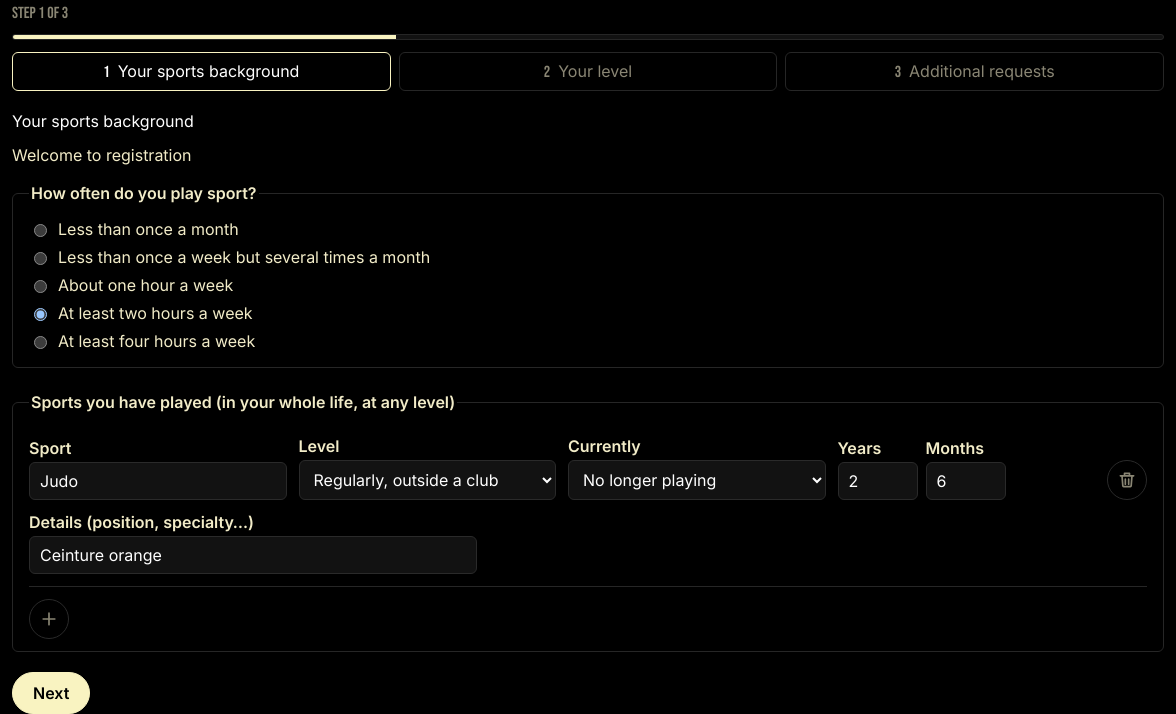
Test case: RegistrationForm › fills the saved answers and offers to withdraw
The image size is (1176, 714).
(page scrolled)
Expected: the radio button labelled "At least two hours a week" is checked, x1=34 y1=308 x2=47 y2=321
Expected: the field labelled "Sport" holds "Judo", x1=29 y1=462 x2=286 y2=500
Click the button "Next" at (51, 693), box x1=12 y1=672 x2=90 y2=713
(page scrolled)
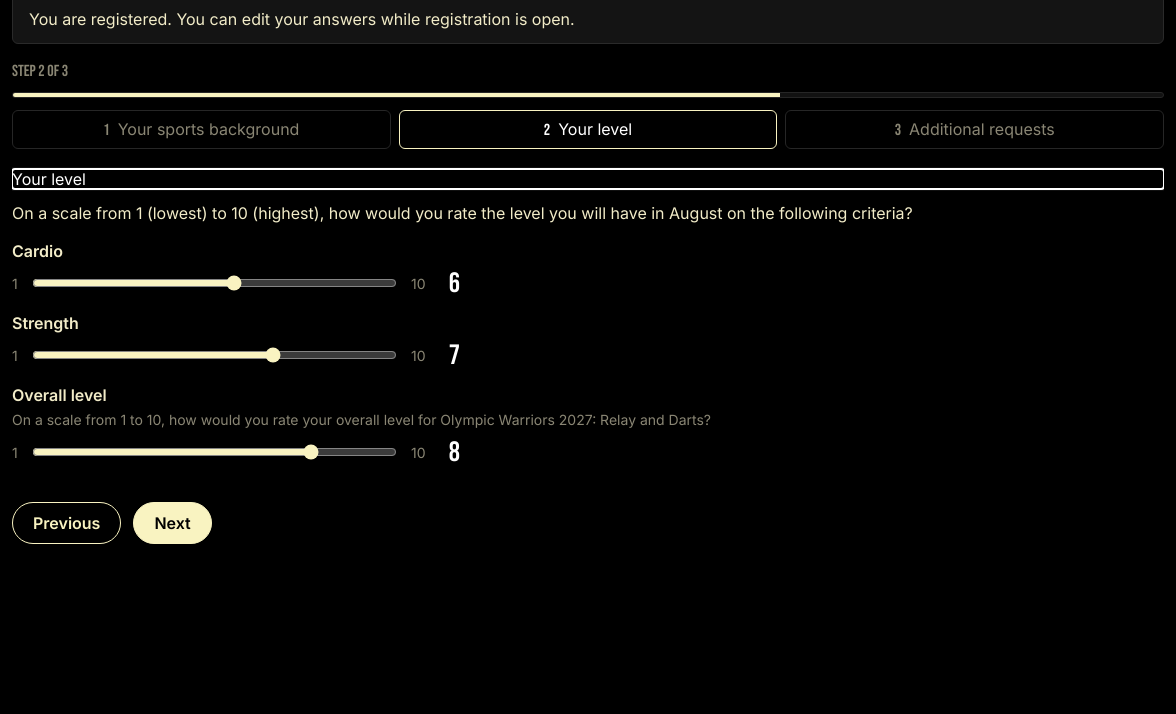
Click the button "Next" at (173, 523), box x1=133 y1=502 x2=212 y2=544
(page scrolled)
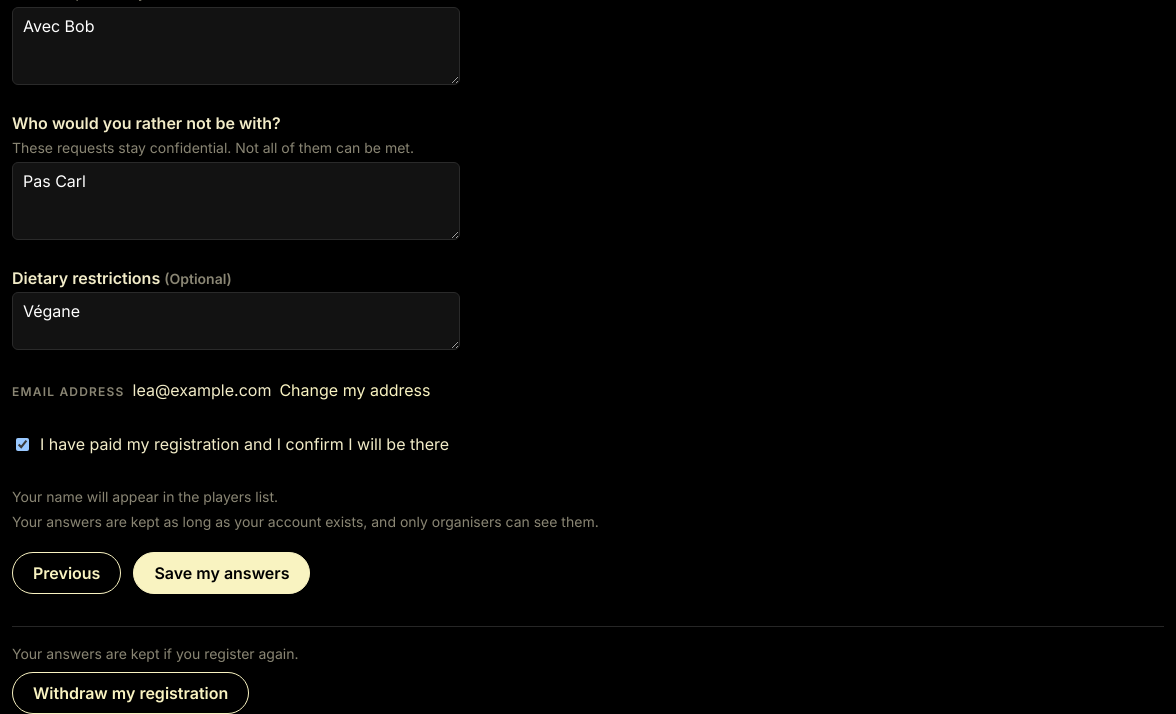
Expected: the button "Save my answers" is shown, x1=133 y1=552 x2=310 y2=594
